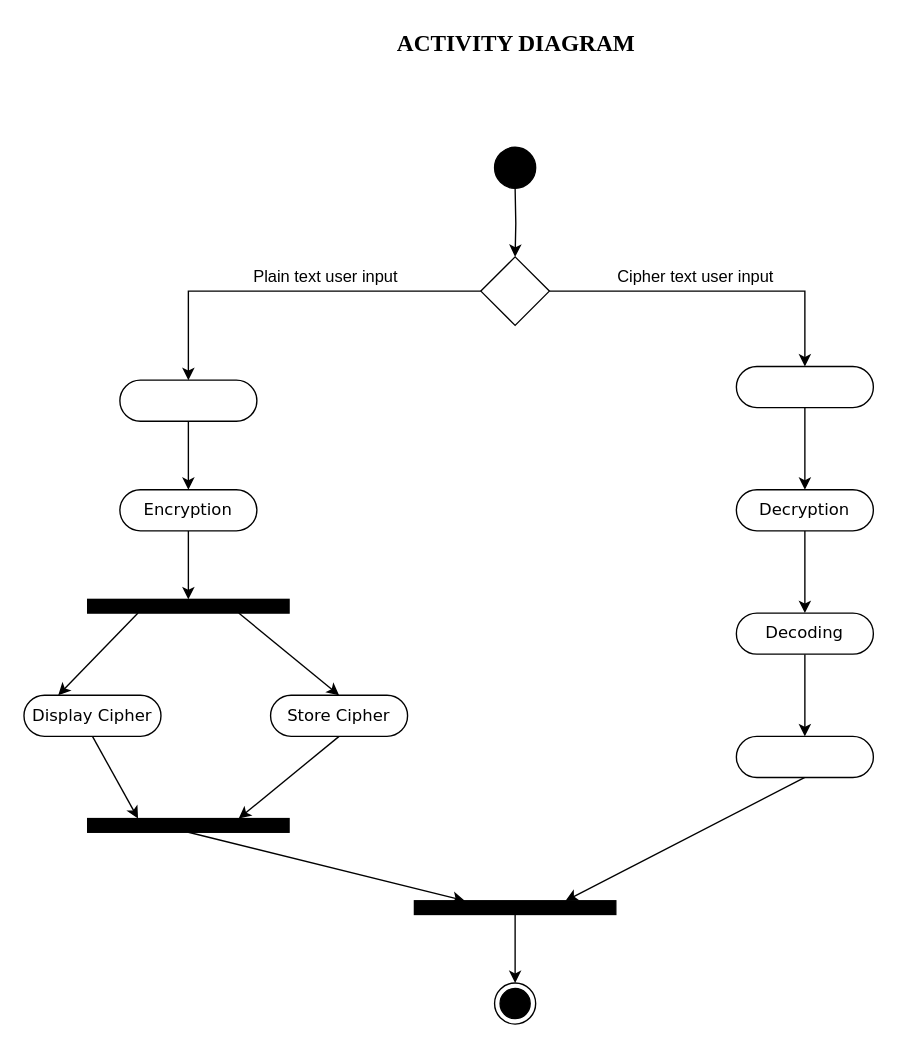
Some shapes in this 897 by 1048 pixel diagram are drawn without their labels. The centre of each missing label's shape, as x and y in pixels:
Display plain text: (x=804, y=756)
Key Inputs: (x=188, y=400)
Keys Input: (x=804, y=386)
